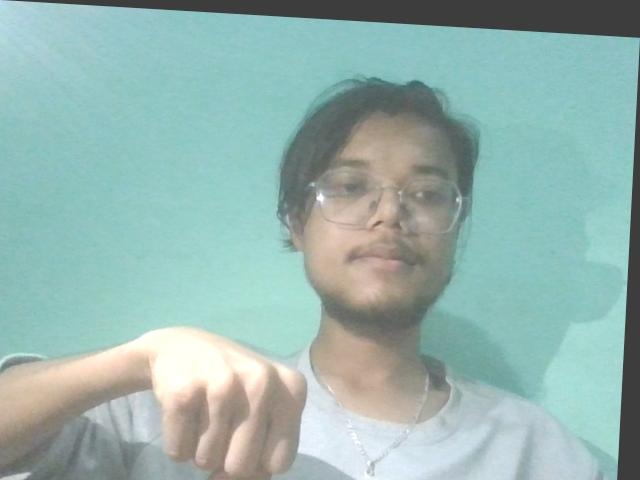Yes: (140, 318, 328, 480)
